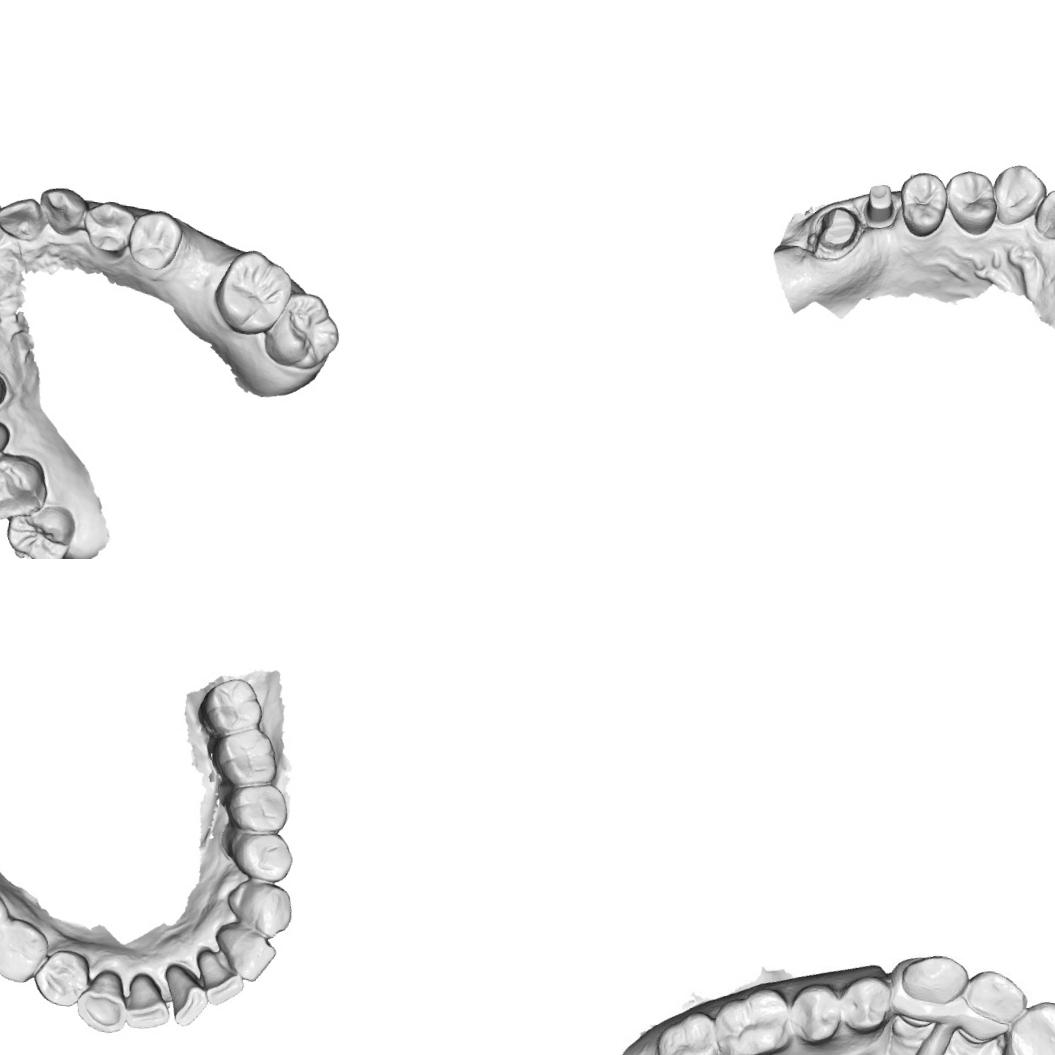abutment: (858, 180, 902, 232)
canine: (220, 874, 298, 942), (894, 944, 970, 1012), (986, 160, 1050, 231), (71, 964, 132, 1037), (36, 183, 90, 239)
crown: (807, 196, 867, 264)
incisor: (209, 920, 280, 985), (964, 962, 1026, 1034), (116, 968, 176, 1034), (156, 960, 214, 1028), (188, 945, 249, 1009), (1013, 997, 1055, 1055), (0, 192, 44, 244), (1029, 184, 1055, 246)
molar: (208, 231, 304, 342), (713, 979, 797, 1055), (272, 290, 340, 379), (196, 671, 268, 742), (1, 498, 79, 559), (214, 725, 284, 791), (0, 449, 52, 525), (657, 1010, 723, 1055)
premolar: (941, 166, 1002, 239), (892, 168, 952, 242), (226, 828, 298, 888), (124, 205, 186, 274), (836, 972, 898, 1041), (30, 946, 95, 1011), (225, 778, 294, 838), (0, 913, 53, 988), (789, 975, 843, 1048), (78, 196, 137, 257)
